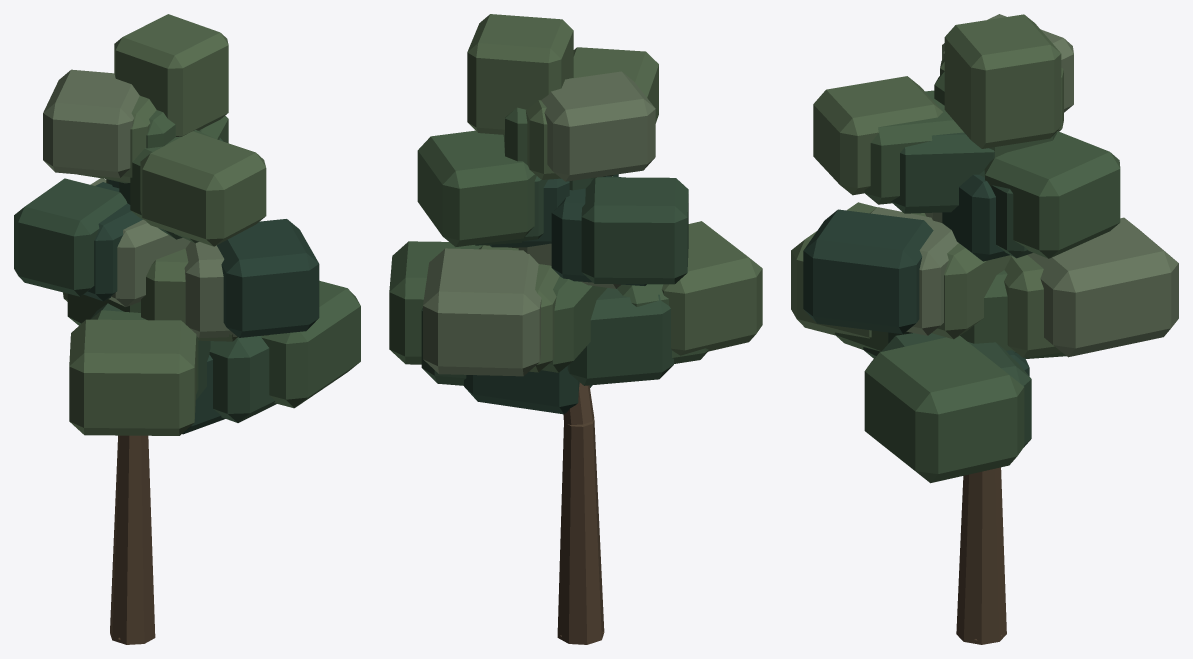
Rendered from juniper_mature_picked.glb.
3 renders of one model, left to right at view 1: azimuth 30°, elevation 25°; view 2: azimuth 150°, elevation 25°; view 3: azimuth 270°, elevation 25°, orthographic. The views are drawn at different scales.
Visible parts, largest first — view 1: juniper_mature_picked; view 2: juniper_mature_picked; view 3: juniper_mature_picked.
Boxes of the visible parts, <box> form: juniper_mature_picked: <box>14,14,360,644</box>; juniper_mature_picked: <box>389,14,762,644</box>; juniper_mature_picked: <box>791,14,1178,644</box>.
Size of the model in its own units: 6.91 by 12 by 6.75.
